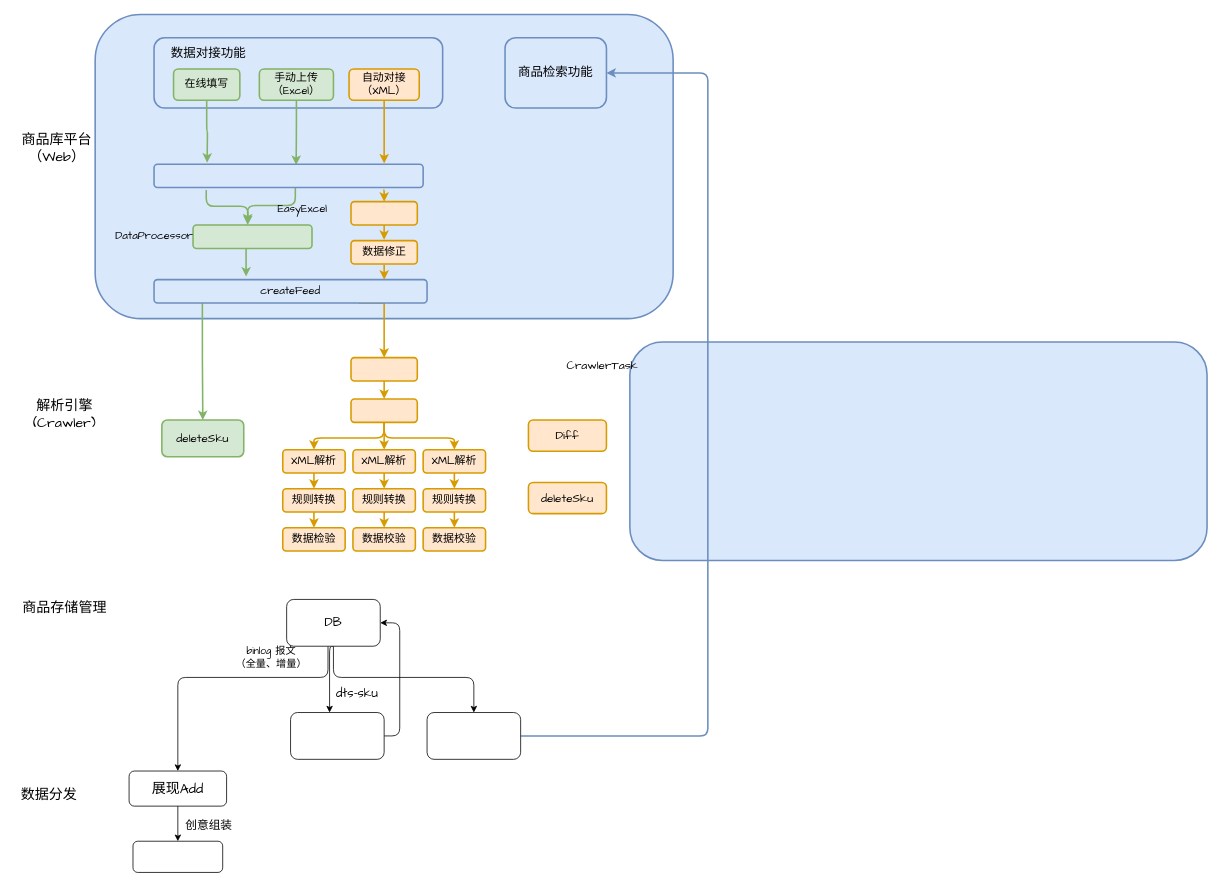
This 1221x886 diagram has some shape labels left out. The box of each missing label's shape, as (x1, y1, x2, y2) in pixels:
审核Audit: (290, 712, 384, 759)
常规检验: (153, 163, 424, 188)
广告展现: (132, 840, 223, 872)
数据诊断: (350, 200, 418, 225)
文件抓取: (350, 356, 418, 381)
检索服务solr: (426, 712, 521, 759)
组装sitemap: (350, 398, 418, 423)
行业字段规则校验: (192, 224, 312, 249)
